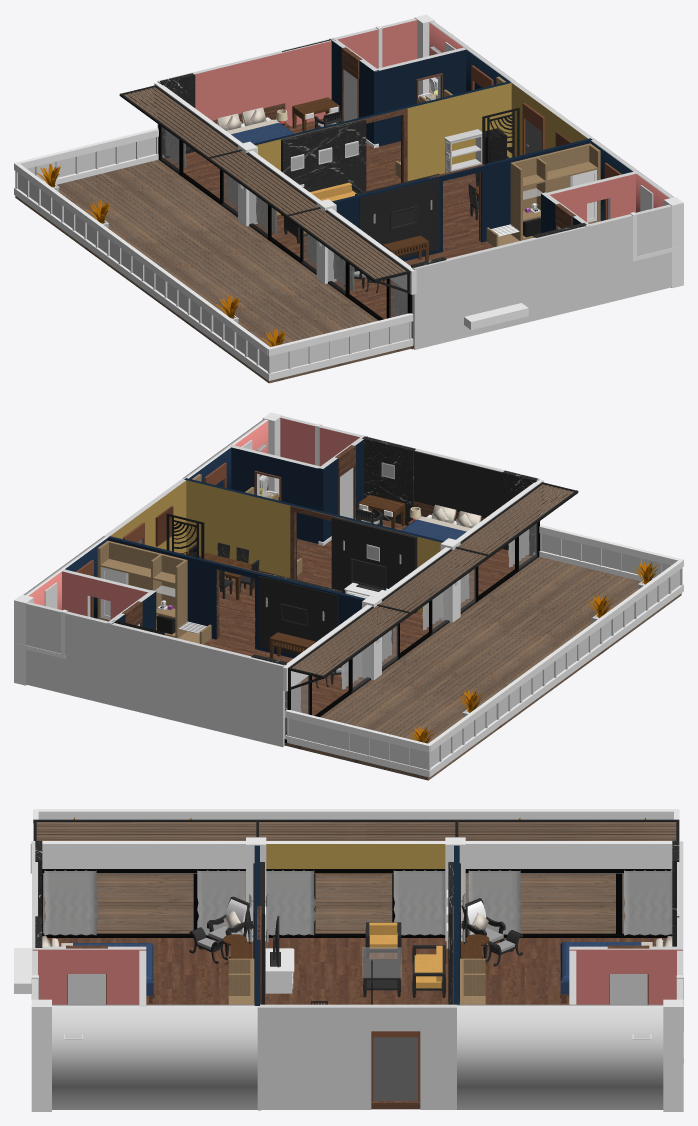
The model's file is room2.fbx.
The picture shows the model from 3 angles, top to bottom: view 1: azimuth 30°, elevation 25°; view 2: azimuth 150°, elevation 25°; view 3: azimuth 270°, elevation 25°; orthographic projection. The views are drawn at different scales.
Visible parts, largest first — view 1: floor-balcony, pasted__pCube8.001, wall-bedroom2, pasted__pCube61, pasted__pCube103.001, Plane.001, pasted__pCube3.001, Plane, pasted__pCube54.002, pasted__pCube128.003, pasted__pCube219.001, pasted__polySurface32.001 (+20 smaller); view 2: wall-bedroom2, floor-balcony, pasted__pCube61, pasted__pCube103.001, Plane.001, pasted__pCube3.001, Plane, pasted__pCube35, pasted__pCube54.002, pasted__polySurface32.003, pasted__pCube8.001, pasted__pCube219.001 (+18 smaller); view 3: pasted__pCube54.002, pasted__pCube3.001, pasted__pCube6.001, floor-balcony, Plane.001, pasted__pCube103.001, pasted__pCube35, pasted__pCube35.001, wall-bedroom2, curtain.001, curtain.004, curtain (+34 smaller).
Boxes of the visible parts, x1,y1,x2,y2 form: floor-balcony: [15, 159, 411, 383]; pasted__pCube8.001: [412, 204, 671, 349]; wall-bedroom2: [160, 39, 592, 337]; pasted__pCube61: [157, 18, 417, 127]; pasted__pCube103.001: [14, 128, 413, 380]; Plane.001: [124, 87, 406, 278]; pasted__pCube3.001: [166, 99, 493, 349]; Plane: [18, 137, 409, 372]; pasted__pCube54.002: [429, 21, 673, 220]; pasted__pCube128.003: [281, 119, 366, 216]; pasted__pCube219.001: [374, 47, 466, 146]; pasted__polySurface32.001: [510, 143, 600, 240]; wall-bedroom2: [107, 436, 537, 735]; floor-balcony: [285, 556, 681, 780]; pasted__pCube61: [26, 602, 285, 747]; pasted__pCube103.001: [285, 524, 683, 777]; Plane.001: [292, 484, 574, 675]; pasted__pCube3.001: [203, 497, 531, 745]; Plane: [289, 534, 680, 769]; pasted__pCube35: [228, 435, 367, 543]; pasted__pCube54.002: [23, 419, 268, 618]; pasted__polySurface32.003: [97, 540, 187, 638]; pasted__pCube8.001: [280, 416, 539, 481]; pasted__pCube219.001: [62, 569, 150, 619]; pasted__pCube54.002: [52, 1004, 663, 1109]; pasted__pCube3.001: [47, 938, 666, 1109]; pasted__pCube6.001: [30, 841, 682, 873]; floor-balcony: [43, 873, 625, 933]; Plane.001: [36, 822, 676, 840]; pasted__pCube103.001: [33, 809, 679, 840]; pasted__pCube35: [32, 946, 146, 1006]; pasted__pCube35.001: [569, 946, 682, 1004]; wall-bedroom2: [35, 840, 679, 1005]; curtain.001: [44, 870, 98, 935]; curtain.004: [393, 870, 445, 935]; curtain: [624, 869, 672, 935].
Size of the model in its own units: 88.19 by 18.25 by 95.77.
